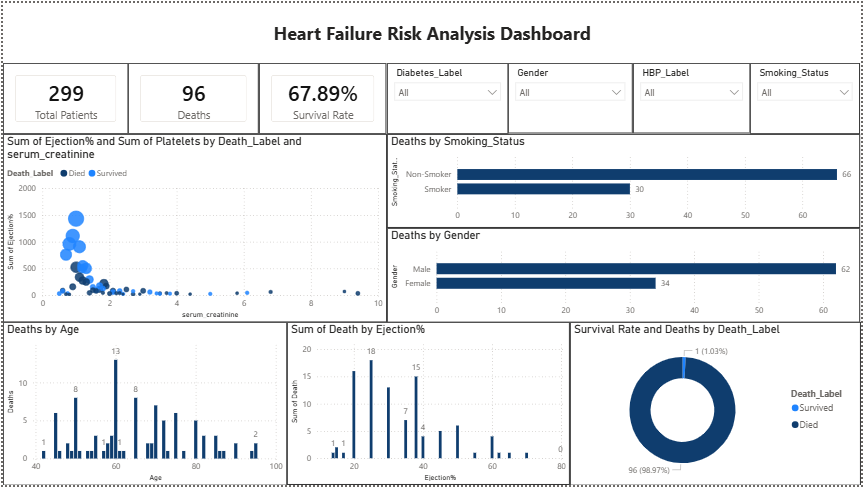

Layout of this report page (visuals, bound fields, positions):
{"tool":"powerbi","page":{"name":"Page 1","canvas":[1280,720],"ordinal":0},"visuals":[{"type":"textbox","box":[0,20.6,1281,68.3],"z":0},{"type":"cardVisual","fields":{"Data":["heart_failure.Deaths"]},"box":[187.3,88.9,195.2,106.3],"z":1000},{"type":"cardVisual","fields":{"Data":["heart_failure.Survival Rate"]},"box":[382.5,88.9,190.5,106.3],"z":2000},{"type":"cardVisual","fields":{"Data":["heart_failure.Total Patients"]},"box":[0,88.9,187.3,106.3],"z":3000},{"type":"clusteredColumnChart","fields":{"Y":["heart_failure.Deaths"],"Category":["heart_failure.Age"]},"box":[0,476.3,423.8,243.8],"z":4000},{"type":"columnChart","fields":{"Category":["heart_failure.Ejection%"],"Y":["Sum(heart_failure.Death)"]},"box":[423.9,476.1,422.4,243.3],"z":5000},{"type":"donutChart","fields":{"Y":["heart_failure.Survival Rate","heart_failure.Deaths"],"Category":["heart_failure.Death_Label "]},"box":[846.3,476.1,433.6,244],"z":6000},{"type":"clusteredBarChart","fields":{"Y":["heart_failure.Deaths"],"Category":["heart_failure.Smoking_Status"]},"box":[573.1,195.5,706,140.3],"z":7000},{"type":"barChart","fields":{"Category":["heart_failure.Gender"],"Y":["heart_failure.Deaths"]},"box":[572.5,335.3,705.9,141.2],"z":8000},{"type":"scatterChart","fields":{"Series":["heart_failure.Death_Label "],"Size":["Sum(heart_failure.Platelets)"],"X":["heart_failure.serum_creatinine"],"Y":["Sum(heart_failure.Ejection%)"]},"box":[0,195.6,572.7,280.7],"z":9000},{"type":"slicer","fields":{"Values":["heart_failure.Gender"]},"box":[754,88.9,185.7,104.8],"z":10000},{"type":"slicer","fields":{"Values":["heart_failure.Smoking_Status"]},"box":[1114.9,89.6,164.2,106],"z":11000},{"type":"slicer","fields":{"Values":["heart_failure.Diabetes_Label"]},"box":[573.1,89.6,180.6,106],"z":12000},{"type":"slicer","fields":{"Values":["heart_failure.HBP_Label"]},"box":[939.7,88.9,174.6,104.8],"z":13000}]}

Visuals, with their boxes in screenshot pixels (x1, y1, x2, y2), scaled from the page's 1280x720 canvas onto the 865x490 screenshot:
textbox: bbox=[0, 14, 864, 61]
cardVisual - heart_failure.Deaths: bbox=[127, 61, 258, 133]
cardVisual - heart_failure.Survival Rate: bbox=[258, 61, 387, 133]
cardVisual - heart_failure.Total Patients: bbox=[0, 61, 127, 133]
clusteredColumnChart - heart_failure.Deaths x heart_failure.Age: bbox=[0, 324, 286, 489]
columnChart - heart_failure.Ejection% x Sum(heart_failure.Death): bbox=[286, 324, 572, 489]
donutChart - heart_failure.Survival Rate x heart_failure.Deaths: bbox=[572, 324, 864, 489]
clusteredBarChart - heart_failure.Deaths x heart_failure.Smoking_Status: bbox=[387, 133, 864, 229]
barChart - heart_failure.Gender x heart_failure.Deaths: bbox=[387, 228, 864, 324]
scatterChart - heart_failure.Death_Label  x Sum(heart_failure.Platelets): bbox=[0, 133, 387, 324]
slicer - heart_failure.Gender: bbox=[510, 61, 635, 132]
slicer - heart_failure.Smoking_Status: bbox=[753, 61, 864, 133]
slicer - heart_failure.Diabetes_Label: bbox=[387, 61, 509, 133]
slicer - heart_failure.HBP_Label: bbox=[635, 61, 753, 132]
